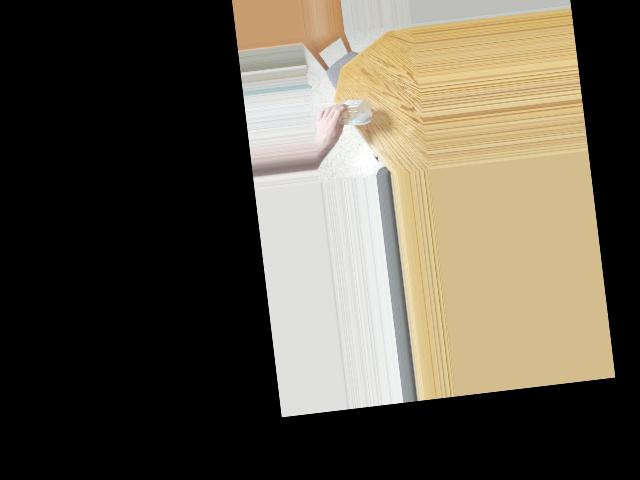cheese: (331, 88, 375, 144)
